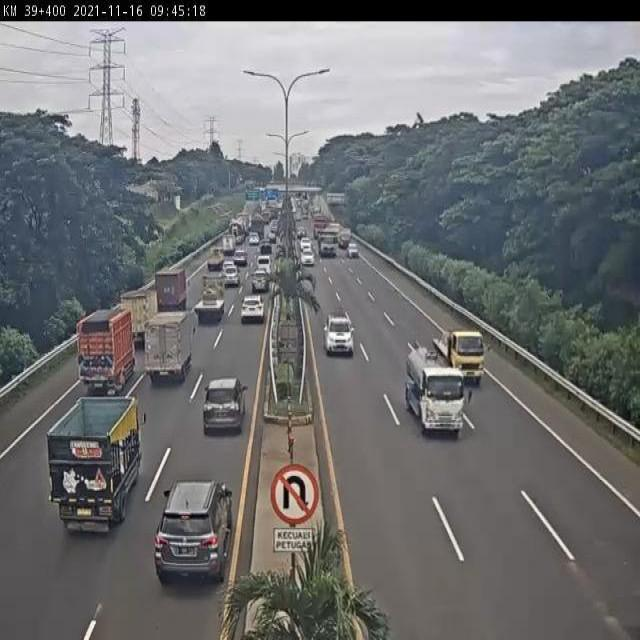car: (153, 484, 235, 584), (202, 375, 249, 433), (322, 312, 354, 356), (239, 296, 265, 327), (250, 272, 270, 297), (229, 248, 248, 271), (220, 265, 237, 287)
small bus: (254, 259, 273, 280)
small truck: (47, 395, 148, 529), (405, 349, 465, 436), (140, 313, 189, 388), (434, 326, 486, 382), (119, 289, 159, 343), (206, 247, 226, 270)
truck-m-: (77, 310, 134, 390), (156, 268, 187, 315), (196, 276, 225, 324)
